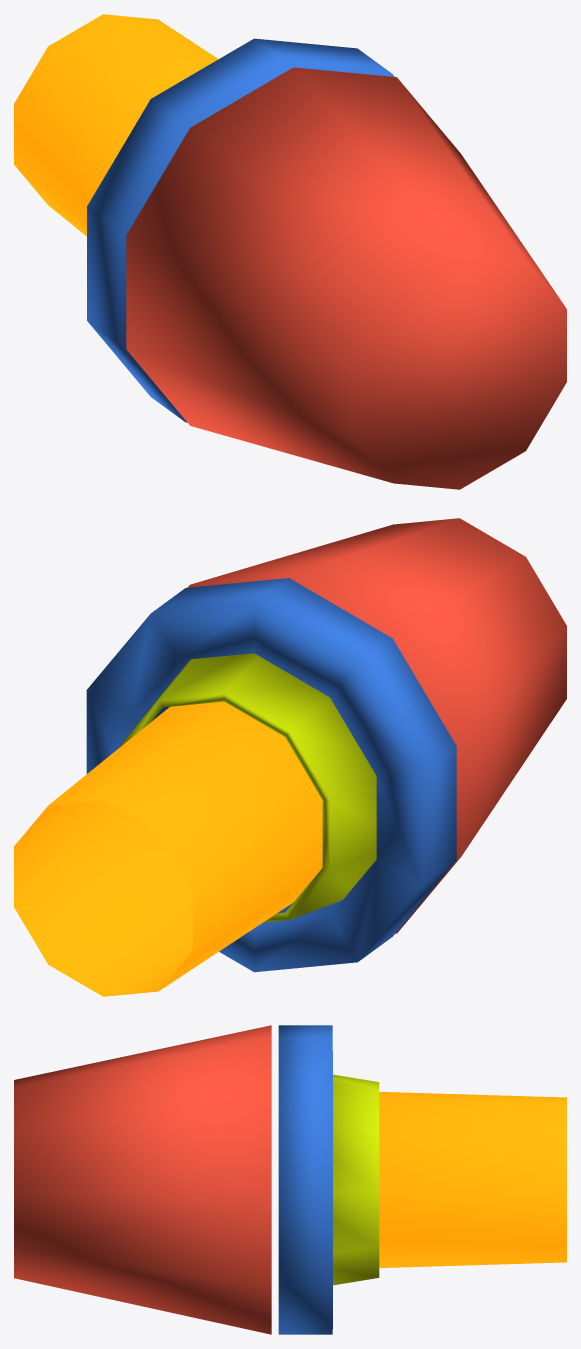
Rendered from boost.glb.
The picture shows the model from 3 angles, top to bottom: view 1: azimuth 30°, elevation 25°; view 2: azimuth 150°, elevation 25°; view 3: azimuth 270°, elevation 25°; orthographic projection. The views are drawn at different scales.
Visible parts, largest first — view 1: boost.005, boost-part.015; view 2: boost.005, boost-part.015; view 3: boost.005, boost-part.015.
Boxes of the visible parts, x1=… form: boost.005: x1=87, y1=38, x2=566, y2=489; boost-part.015: x1=14, y1=14, x2=218, y2=236; boost.005: x1=86, y1=518, x2=566, y2=972; boost-part.015: x1=14, y1=701, x2=322, y2=996; boost.005: x1=14, y1=1025, x2=379, y2=1334; boost-part.015: x1=379, y1=1092, x2=566, y2=1267.
Size of the model in its own units: 0.145 by 0.1525 by 0.2673.
